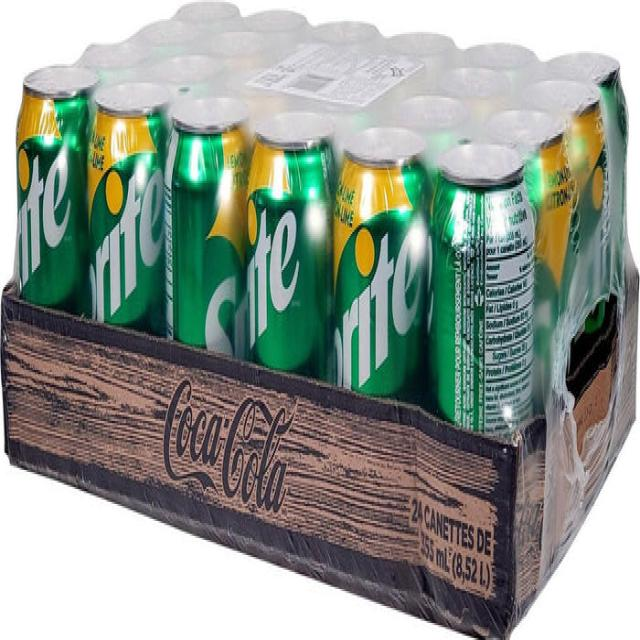sprite: (431, 152, 556, 507), (326, 160, 424, 410), (168, 65, 249, 367), (250, 124, 333, 404), (87, 82, 169, 352), (11, 64, 86, 335)
